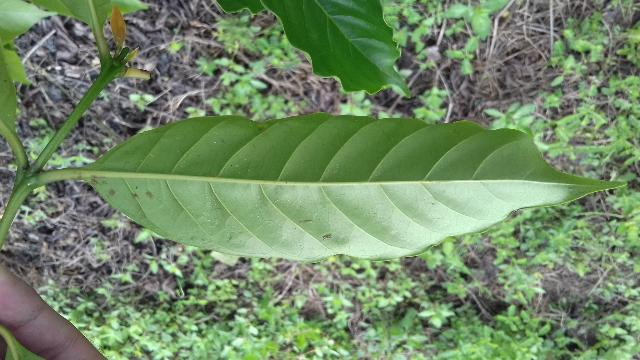healthy: (32, 113, 629, 264)
